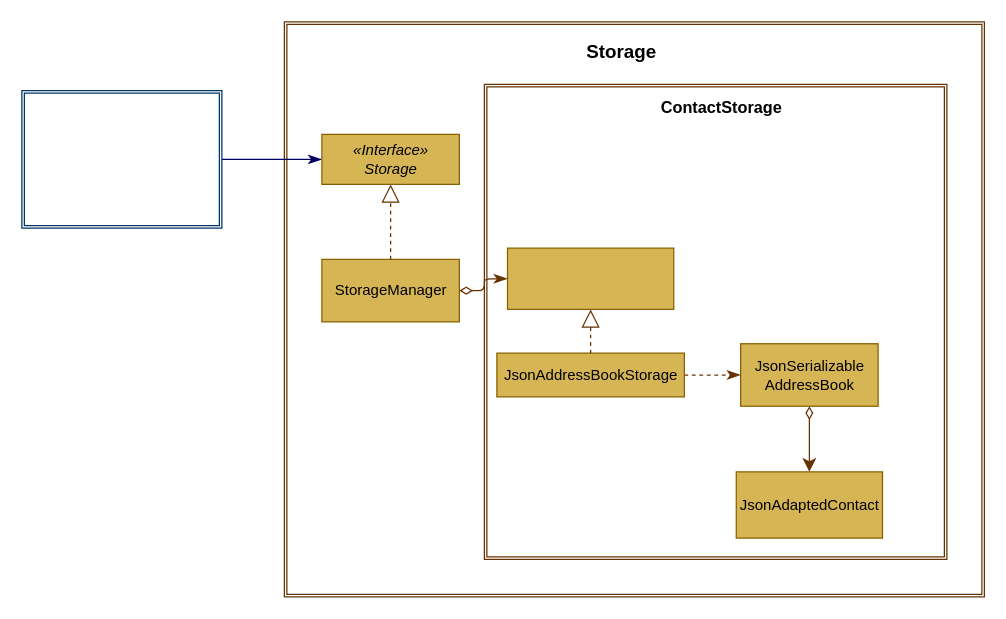
Image size: 1006x619. Some labels were removed from this diagram. The shapes that lost their labels are listed below. From the top down, each one's centre as x and y in pixels, then its label:
At pixel 121 158: "Logic".
At pixel 590 278: "«Interface» AddressBookStorage".
